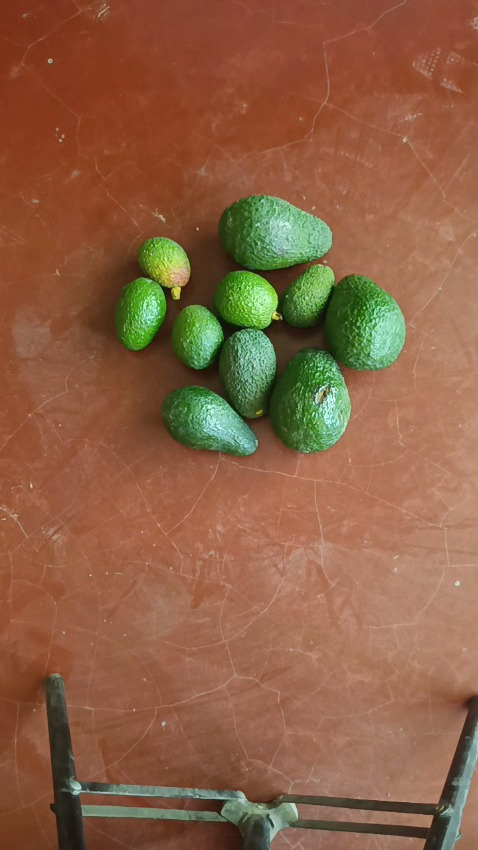Primera: (219, 195, 333, 271), (269, 349, 350, 451), (324, 274, 406, 370)
Segunda: (159, 384, 258, 455), (218, 328, 276, 418)
Tercera: (213, 271, 278, 330), (114, 278, 166, 351), (279, 264, 334, 328), (171, 304, 223, 369), (136, 236, 191, 288)
